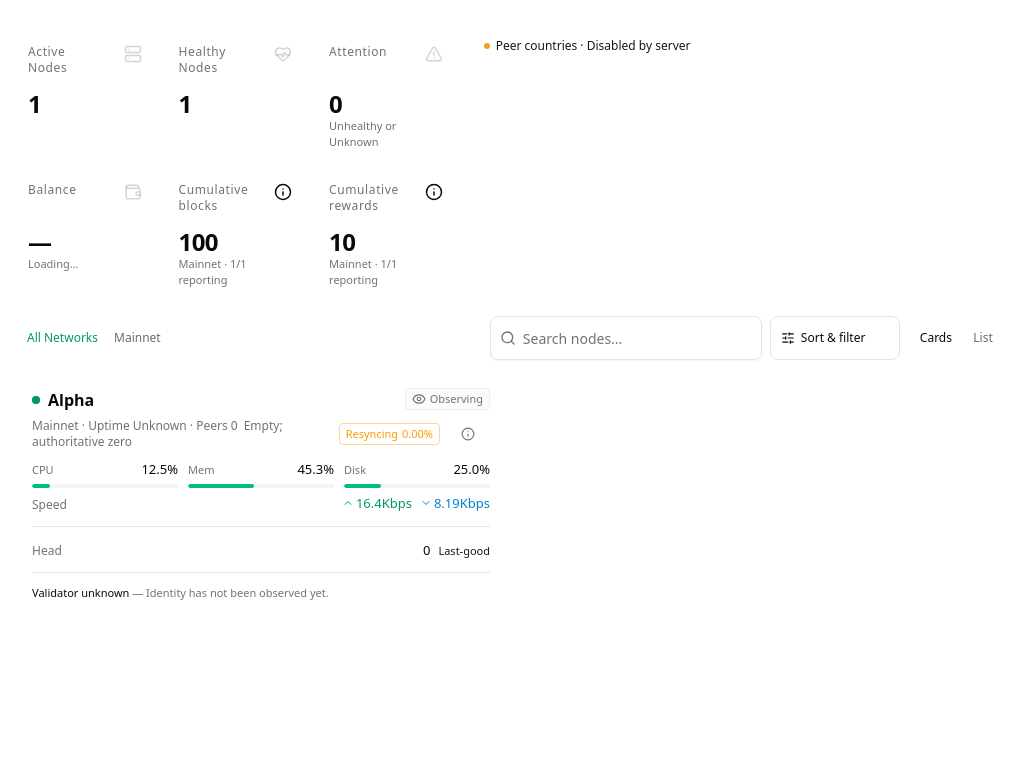
Test case: Public Home dashboard › renders resync heights safely: 0 / 100 (0.00%)
The image size is (1024, 768).
Click the button "Resyncing 0.00%": [389, 434] box [339,412,440,456]
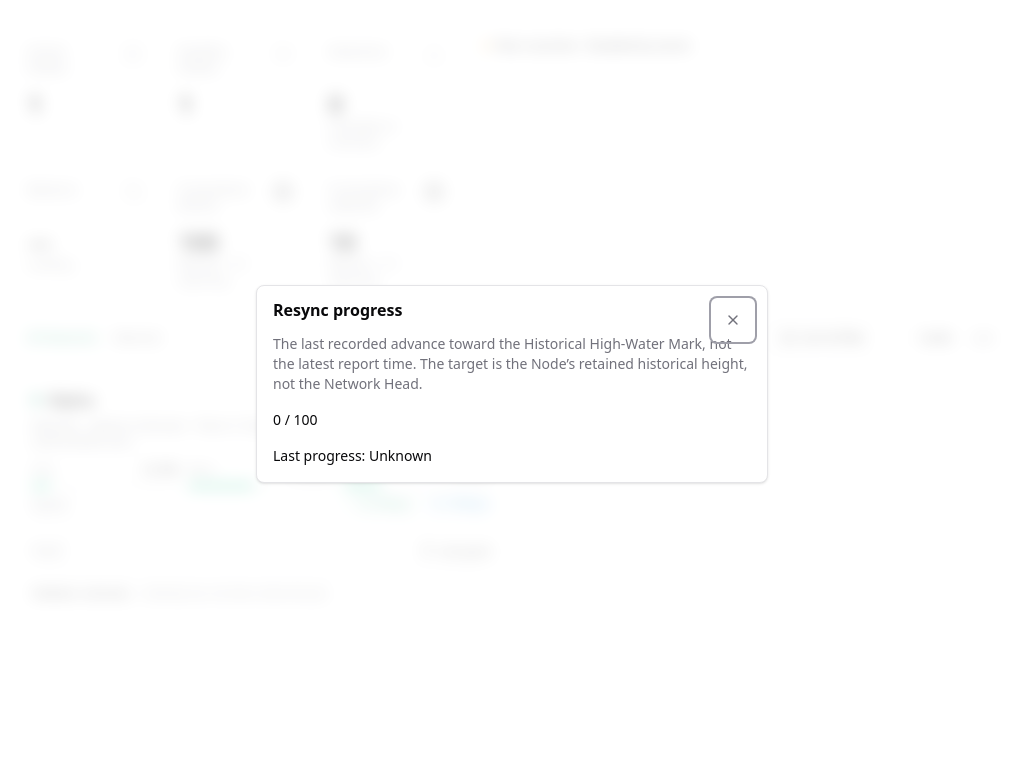
Expected: the text "0 / 100" is shown, [273,410,318,429]
